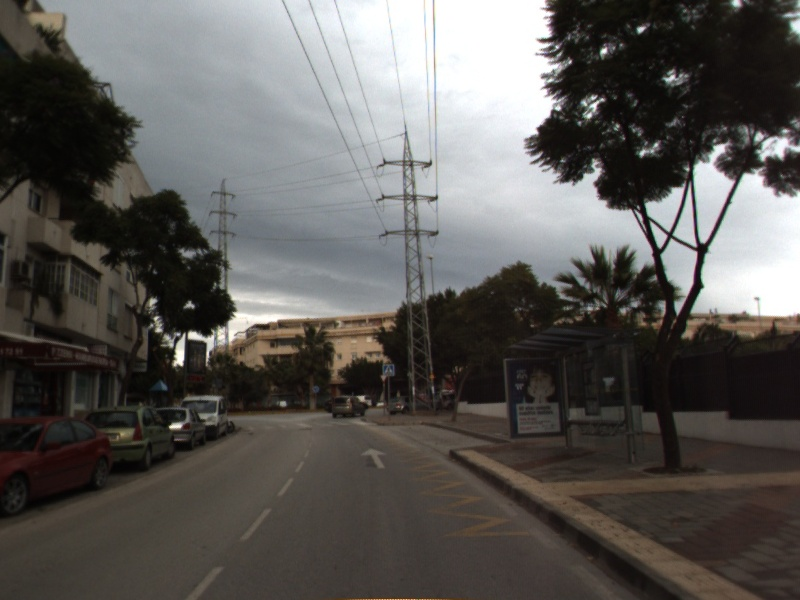STRAIGHT: (359, 446, 389, 470)
